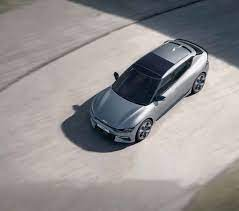Honda Ioniq: (82, 32, 214, 156)
